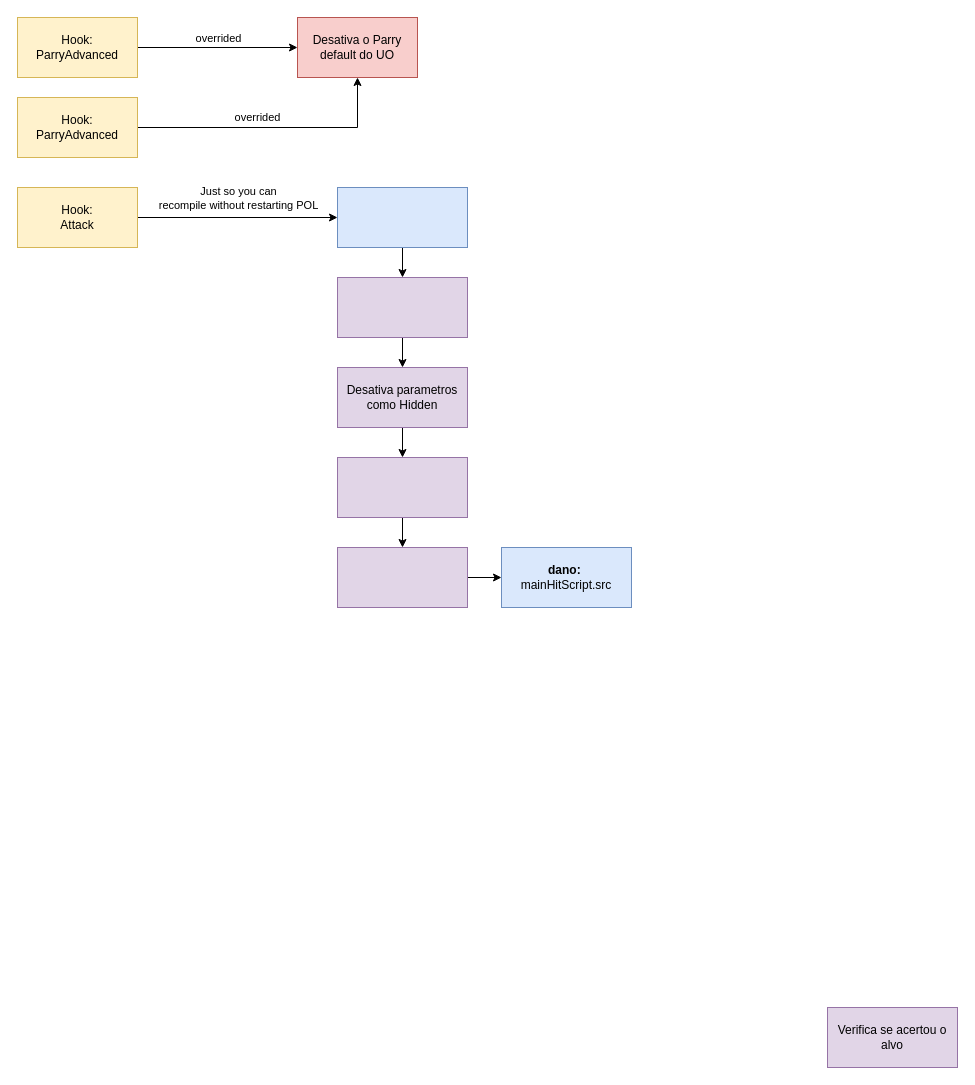
Image size: 975x1085. Some labels were removed from this diagram. The centre of each missing label's shape, as x and y in pixels:
acerto : temporaryHook.src: point (402, 217)
Aplica Mods de dano e eventos pós ataque: point (402, 487)
Attack Anim & Combat EXP: point (402, 577)
Pode Atacar?: point (402, 307)
